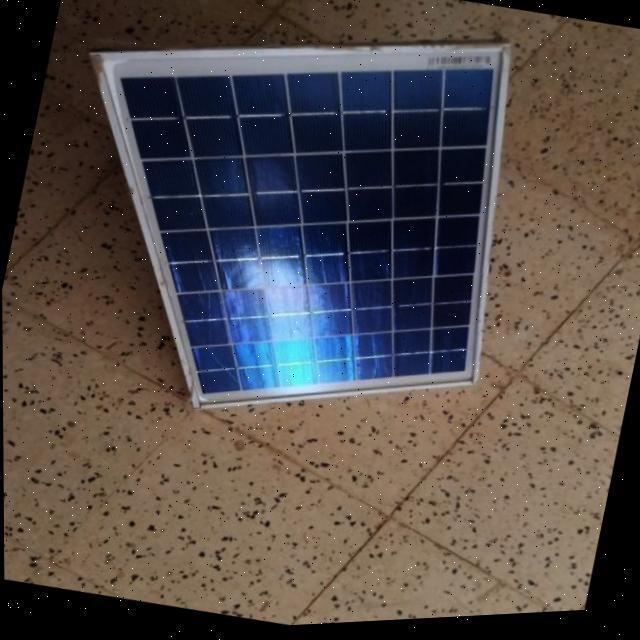Normal Solar Panel: (27, 0, 545, 466)
